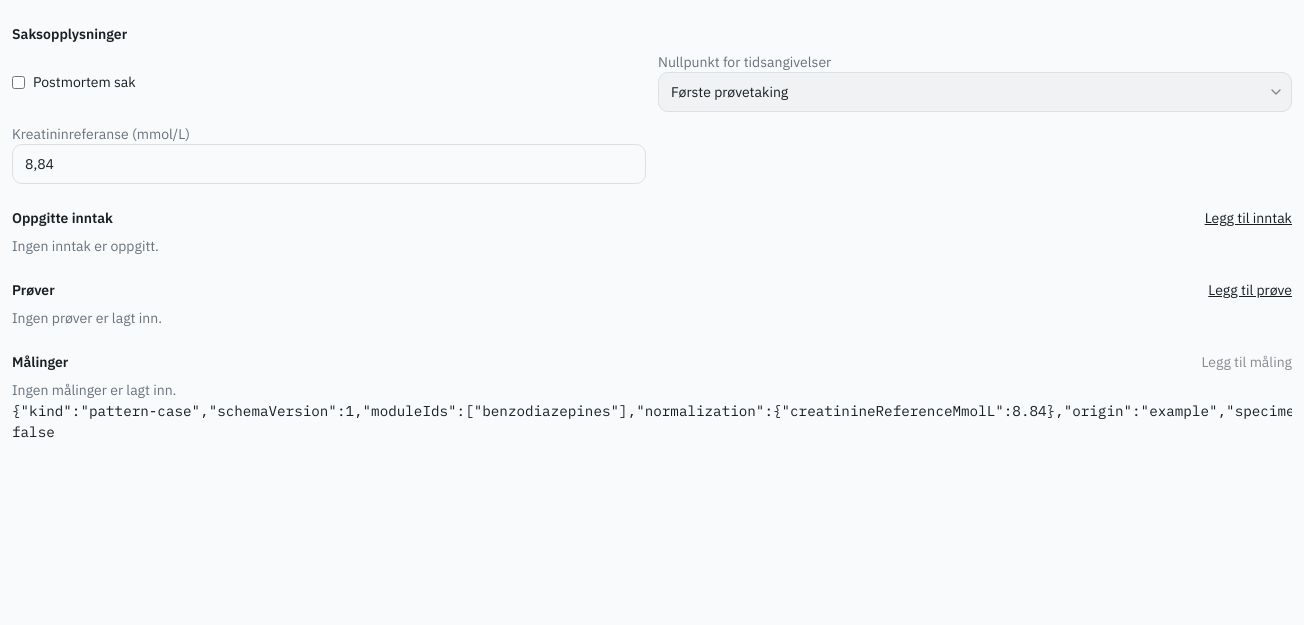
Scenario: entering a case › forgets a complaint from a field that no longer exists
Step 1. Click the button "Legg til prøve" → x=1250, y=290, box x1=1208 y1=280 x2=1292 y2=300
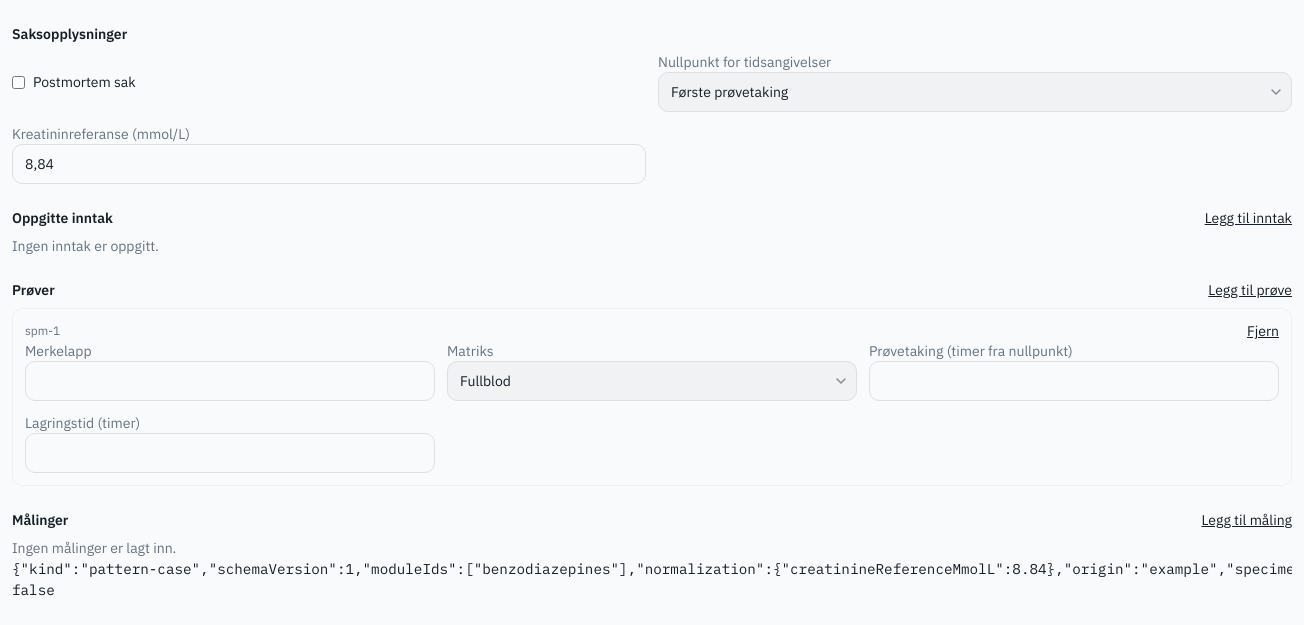
Step 2. Click the button "Legg til måling" → x=1247, y=520, box x1=1201 y1=510 x2=1292 y2=530
(page scrolled)
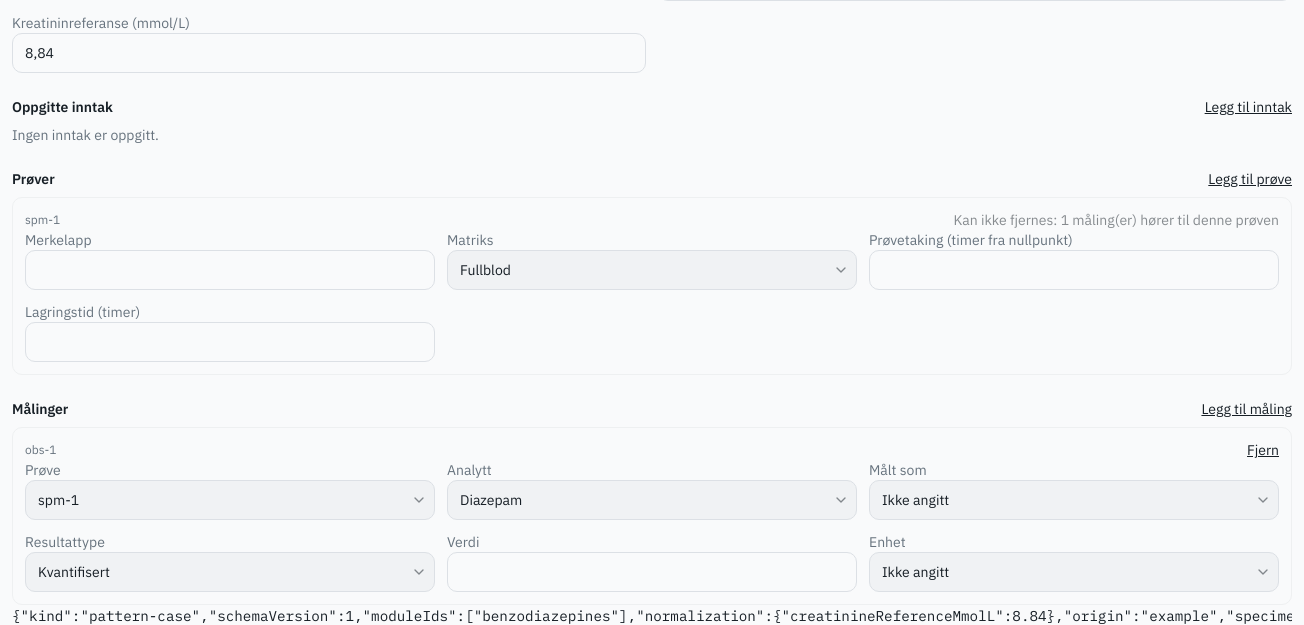
Step 3. Type "1,500" into the field labelled "Verdi" → x=652, y=572, box x1=447 y1=552 x2=857 y2=592
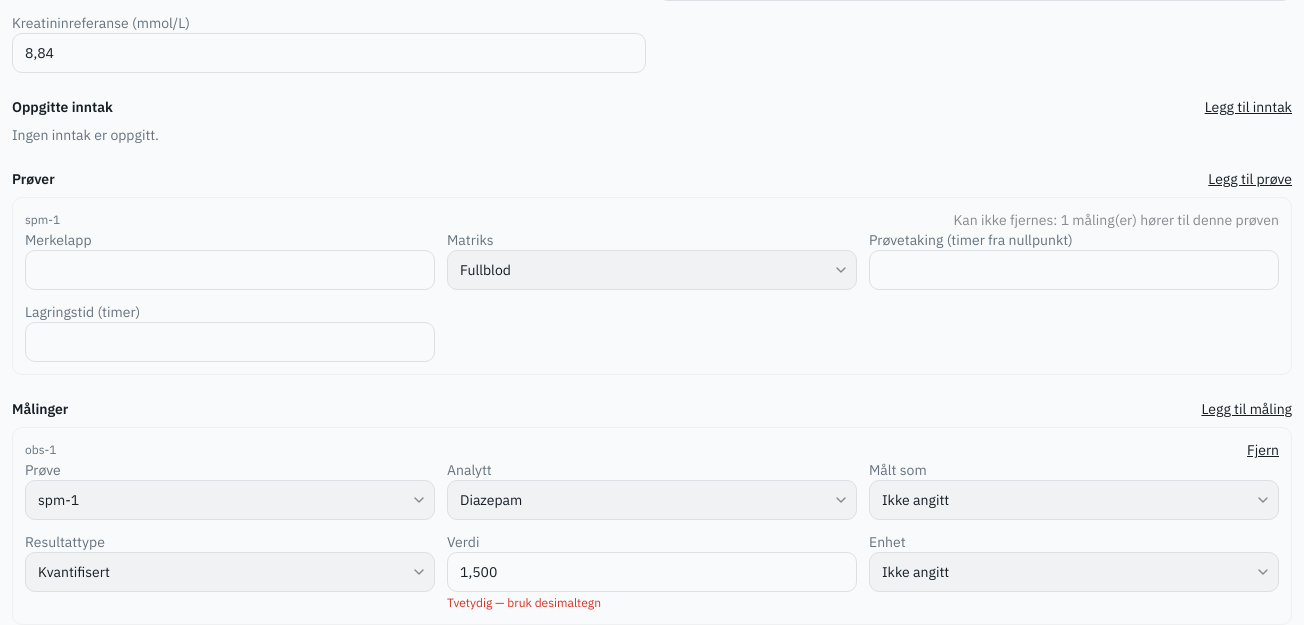
Step 4. Select "Under grense" in the dropdown labelled "Resultattype" → x=230, y=572, box x1=25 y1=552 x2=435 y2=592
(page scrolled)
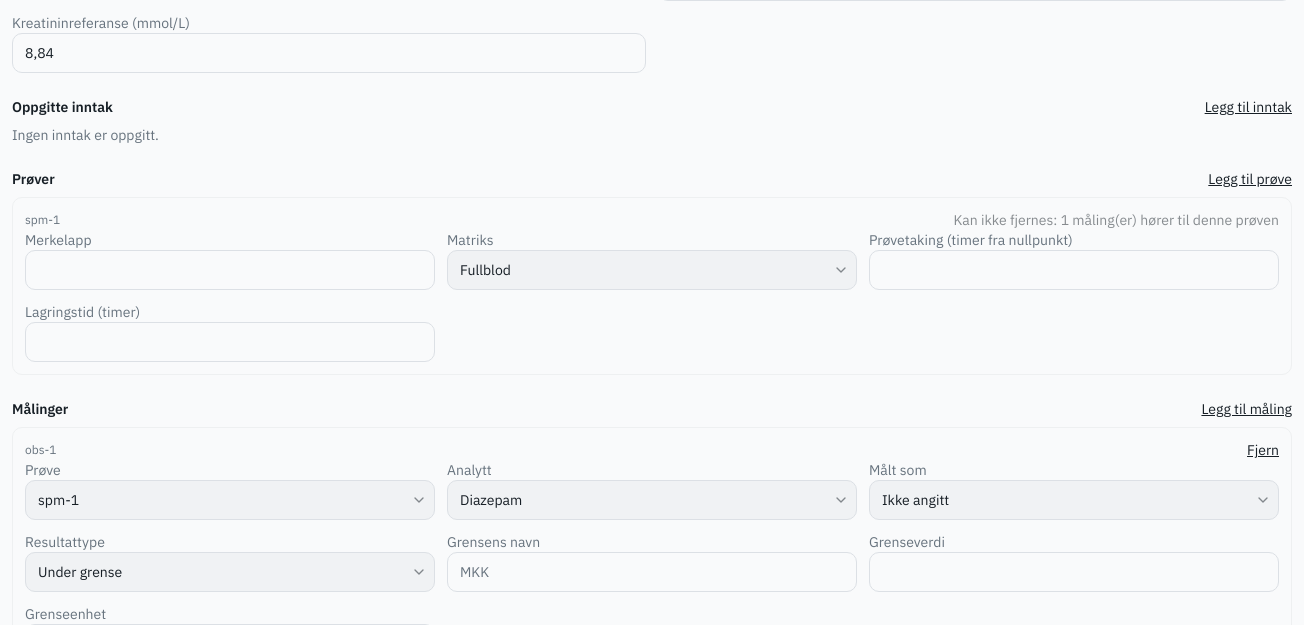
// And the same when the row itself goes.
Step 5. Type "1,500" into the field labelled "Grenseverdi" → x=1074, y=572, box x1=869 y1=552 x2=1279 y2=592
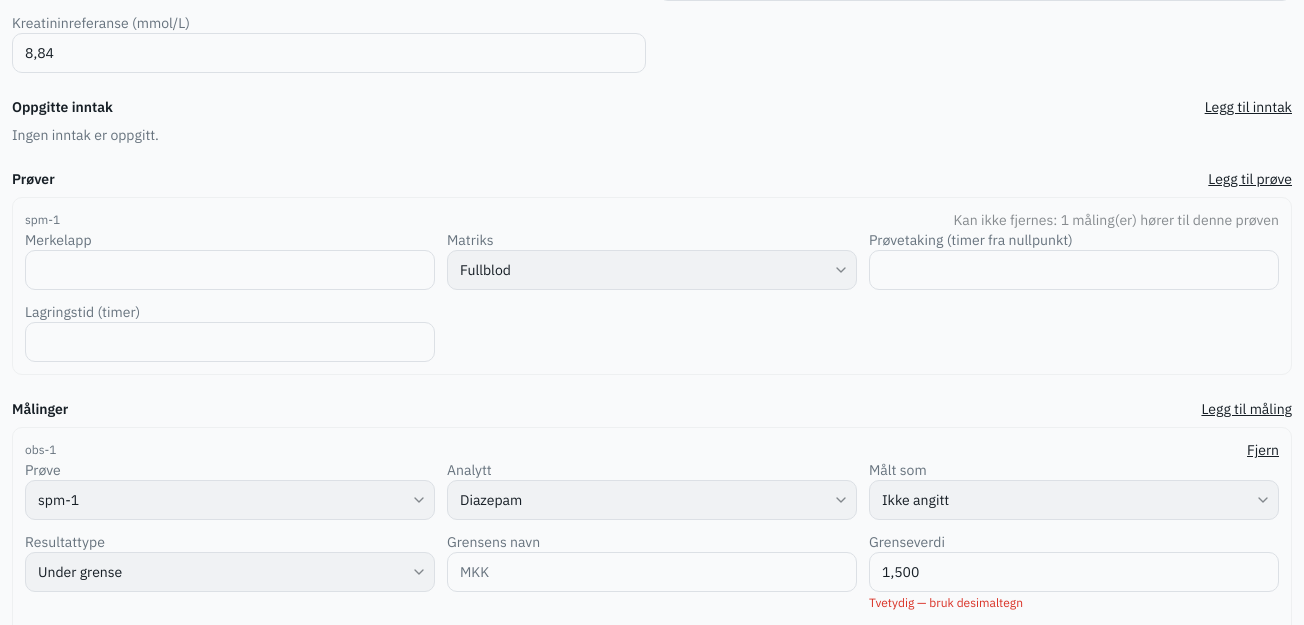
Step 6. Click the button "Fjern" → x=1263, y=450, box x1=1247 y1=440 x2=1279 y2=460
(page scrolled)
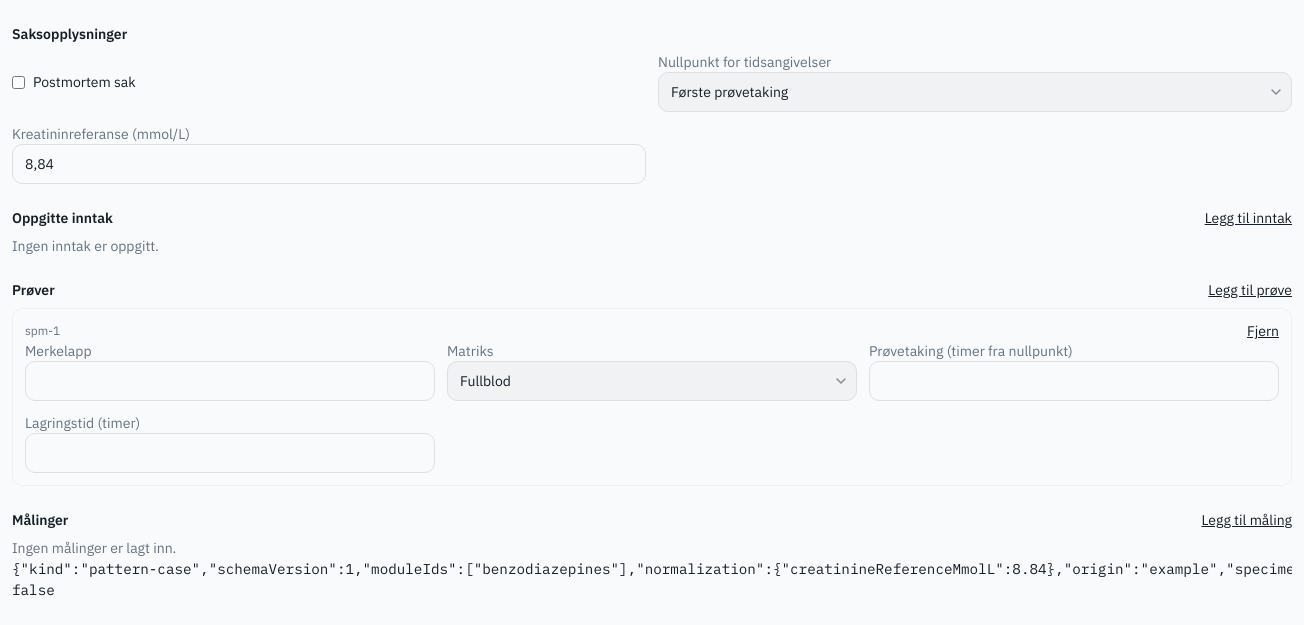
Expected: the text with test id "draft-problem" reads "false", x1=12 y1=580 x2=55 y2=599
